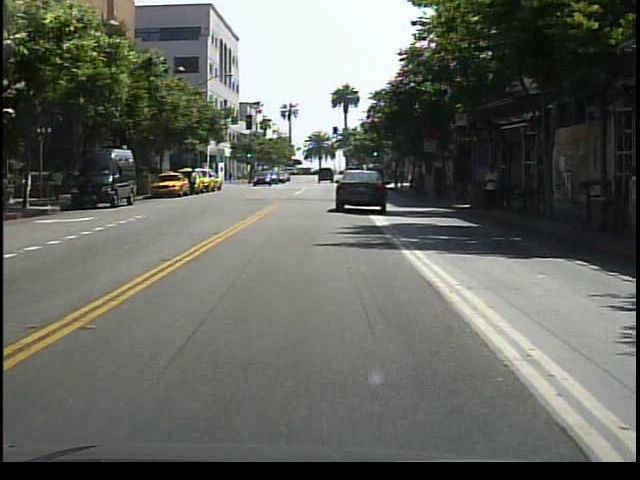person: (479, 160, 506, 218), (186, 162, 202, 198)
